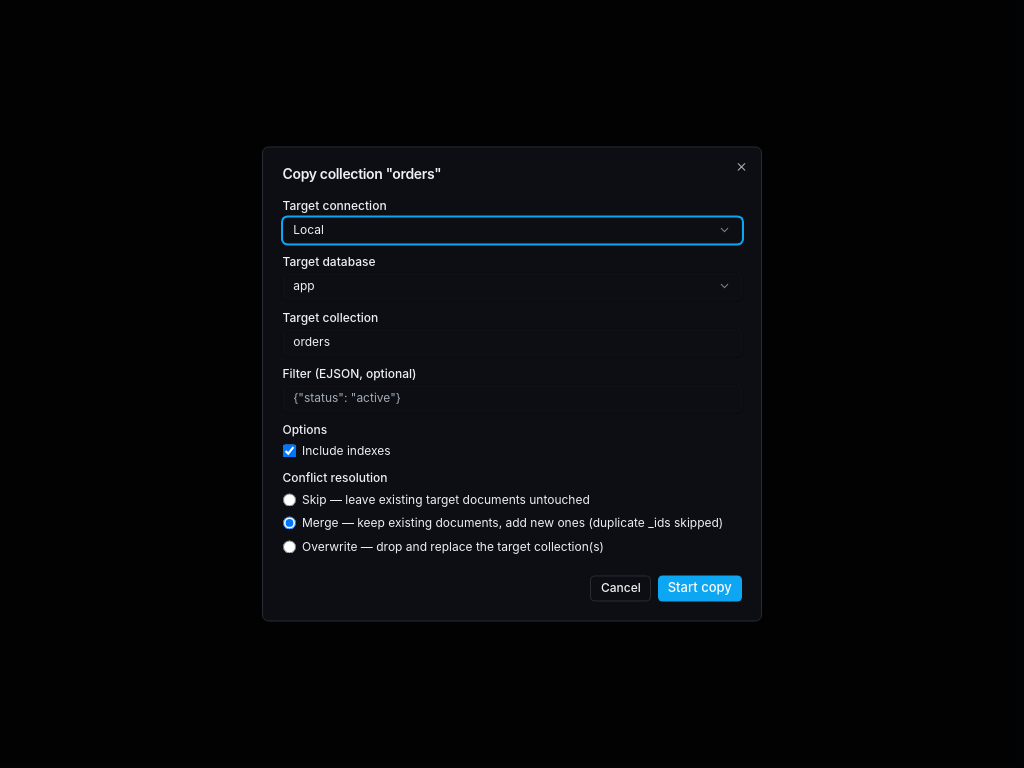
Scenario: CopyToDialog › requires Overwrite confirmation before Start enables
Click the radio button labelled "Overwrite — drop and replace the target collection(s)": (289,547) left=282, top=540, right=296, bottom=554
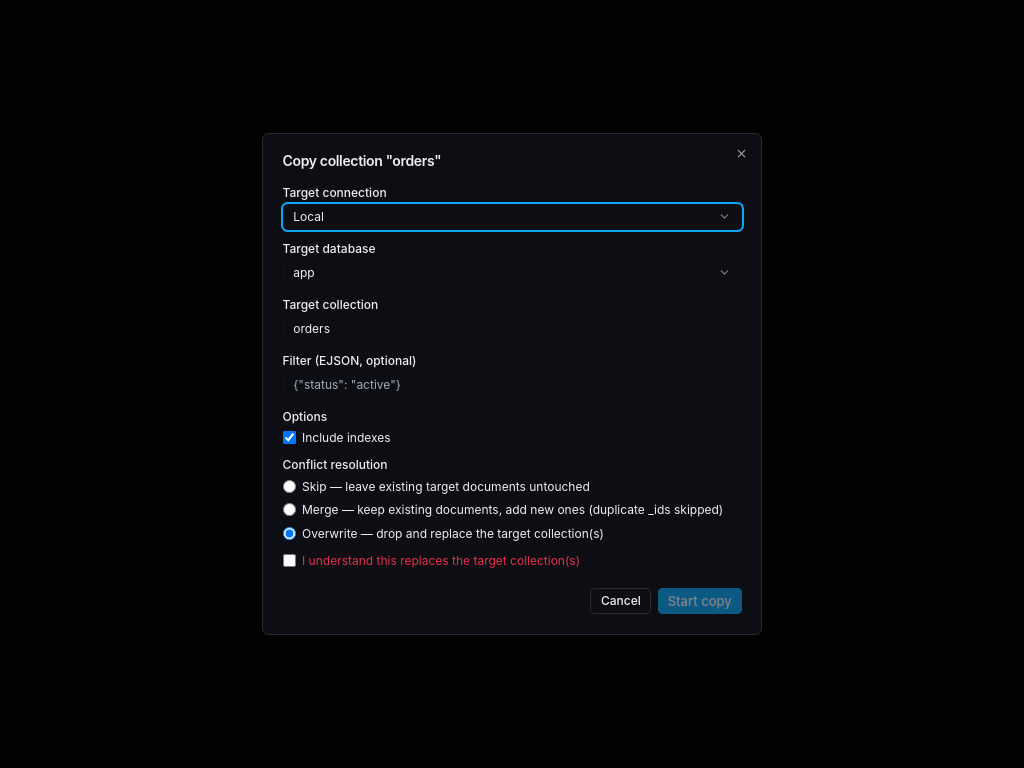
Now the button "Start copy" is disabled, box left=658, top=588, right=742, bottom=614
Click the checkbox labelled "I understand this replaces the target collection(s)": (289,560) left=282, top=554, right=296, bottom=567
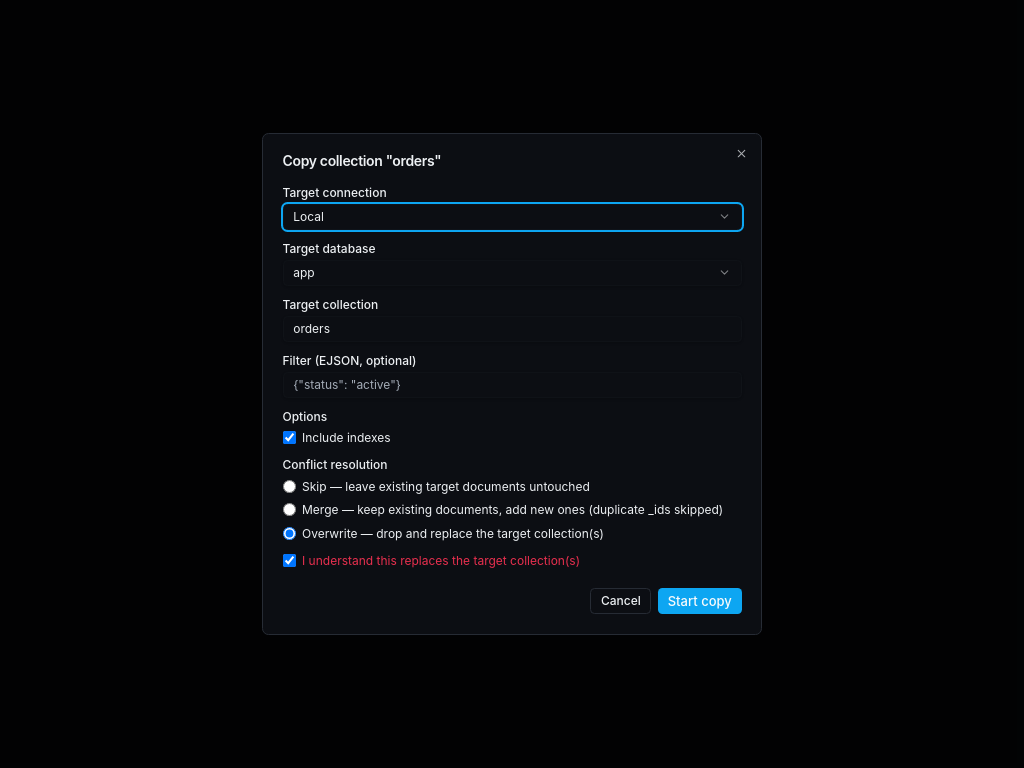
Now the button "Start copy" is enabled, box left=658, top=588, right=742, bottom=614
